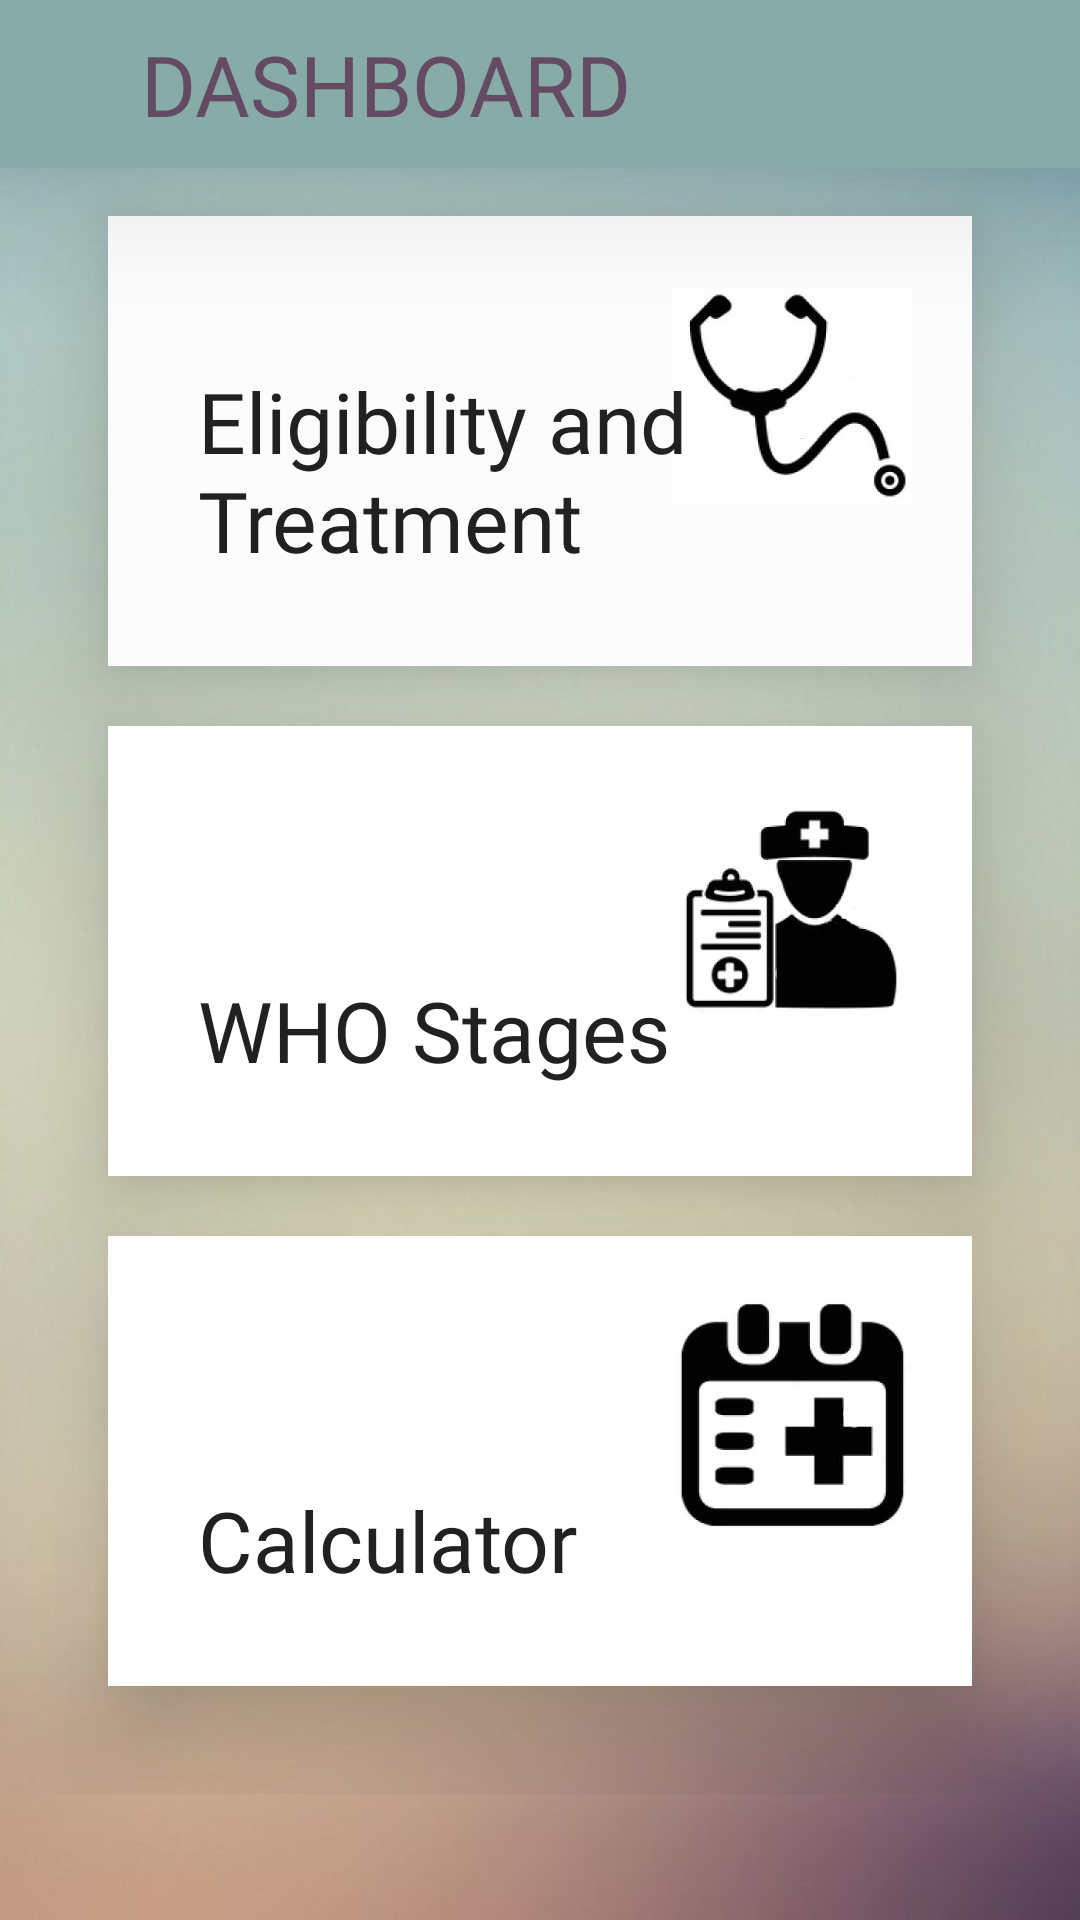

Icon click points for this 1080×1920 phone screenshot, format (x=x, y=y):
cal: (x=792, y=1415)
